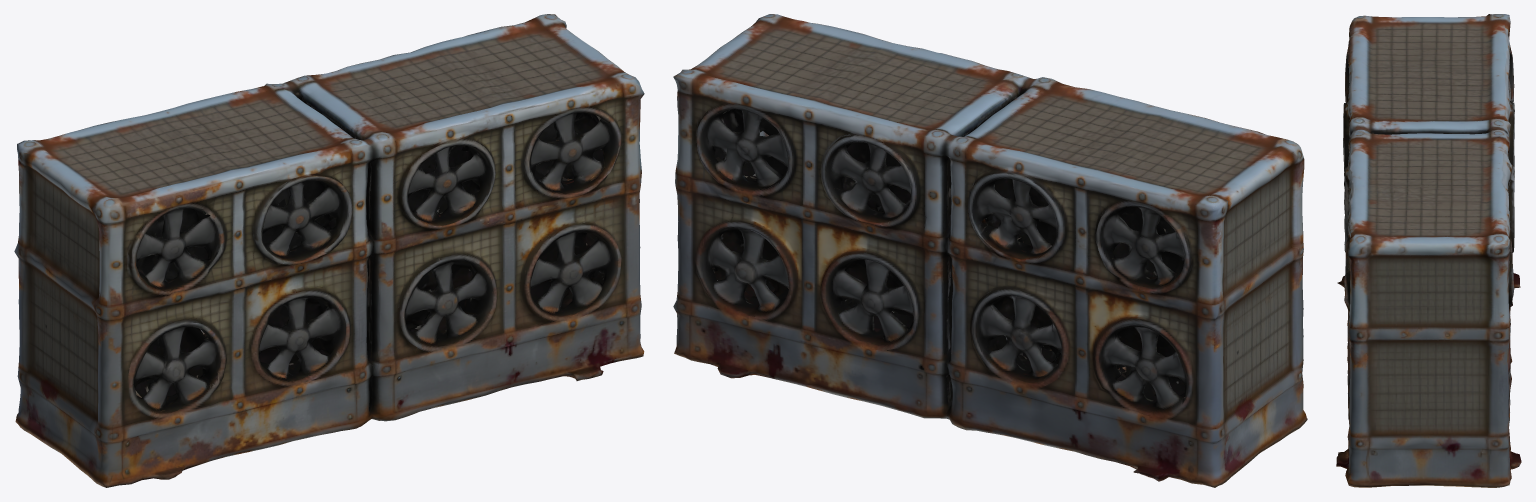
The model's file is 14Fans.fbx.
3 views of the same model, side by side, from view 1: azimuth 30°, elevation 25°; view 2: azimuth 150°, elevation 25°; view 3: azimuth 270°, elevation 25° (orthographic). The views are drawn at different scales.
Visible parts, largest first — view 1: Mesh_0; view 2: Mesh_0; view 3: Mesh_0.
Part boxes in pixels (box(x1,y1,x2,y2)): Mesh_0: box(14, 14, 644, 487); Mesh_0: box(673, 14, 1307, 487); Mesh_0: box(1336, 14, 1521, 487).
Size of the model in its own units: 191 by 96.61 by 64.34.
